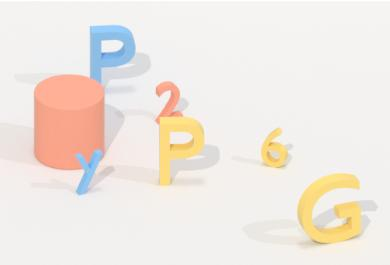6: (257, 124, 291, 174)
G: (293, 170, 369, 248)
P: (155, 112, 209, 191), (86, 22, 137, 87)
y: (73, 150, 105, 199)
